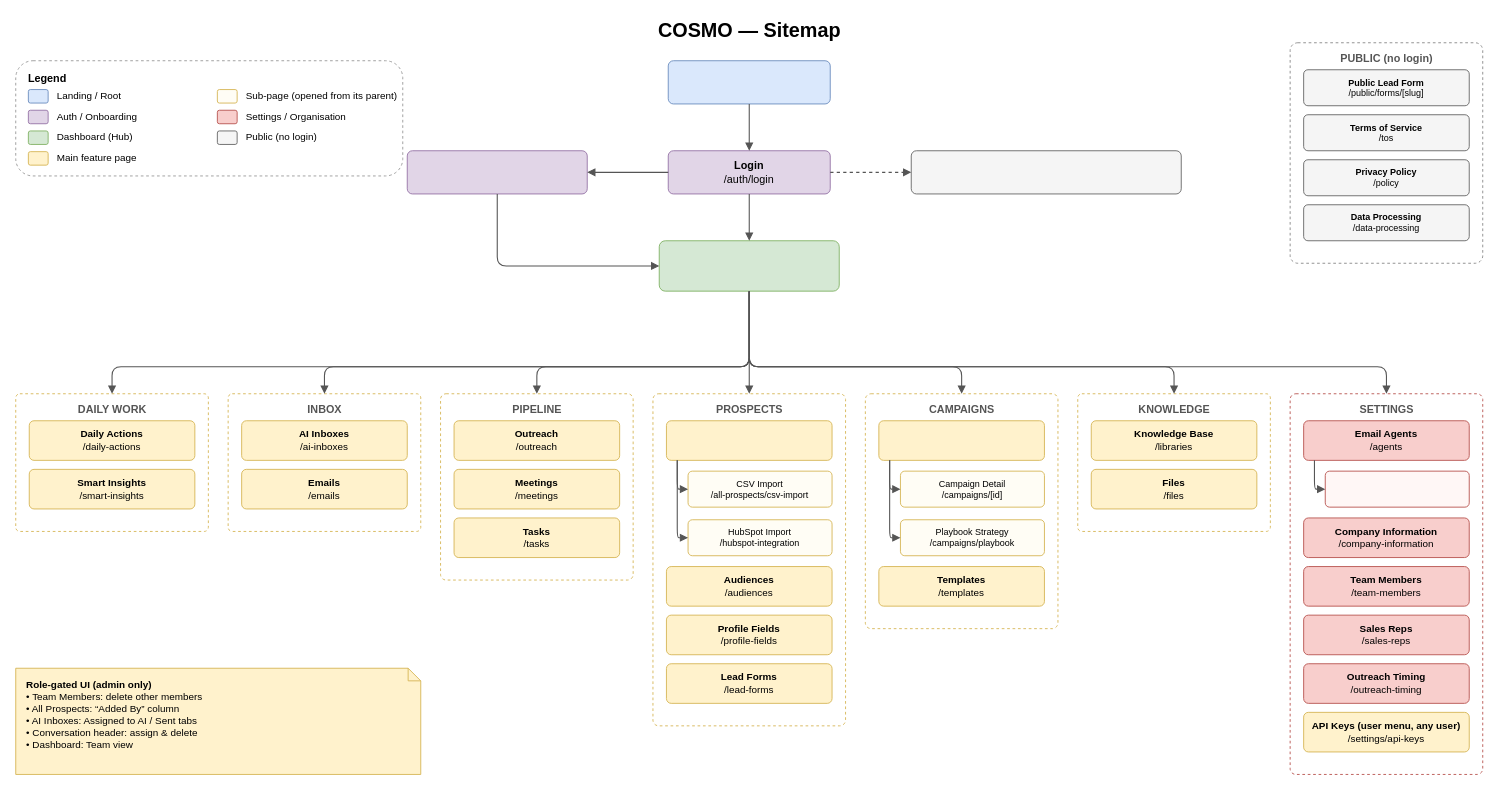
The diagram is 1499 pixels wide and 790 high, and some of its shapes have lost their labels. The shapes that lost their labels are listed below. From the top down, each one's box as (x1, y1, x2, y2) in pixels, then its label:
(667, 60, 830, 104): Landing Page /
(406, 150, 587, 194): Onboarding /onboarding (first login)
(910, 150, 1181, 194): OAuth callbacks /auth/callback/google · gmail · hubspot · invite · member
(658, 240, 839, 291): Dashboard /dashboard
(666, 420, 832, 460): All Prospects /all-prospects
(878, 420, 1044, 460): Campaigns /campaigns
(1324, 470, 1469, 507): Agent Detail /agents/[id]
